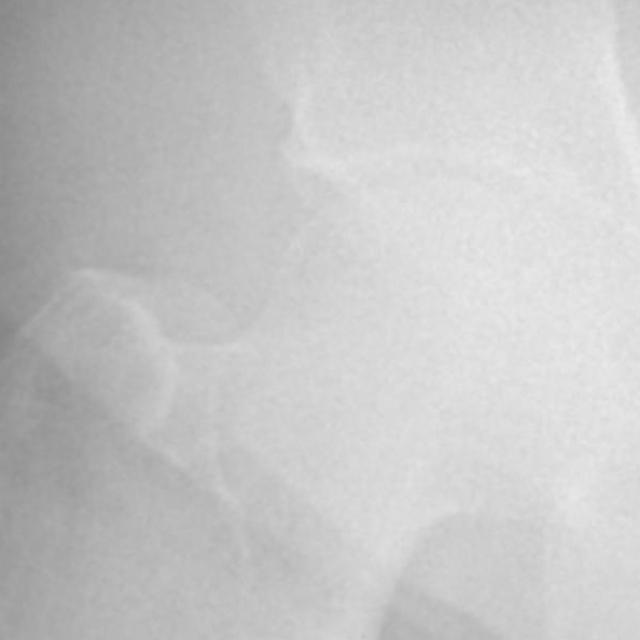Fitted_femural_head: (344, 172, 432, 344)
